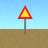sign: (17, 5, 32, 34)
